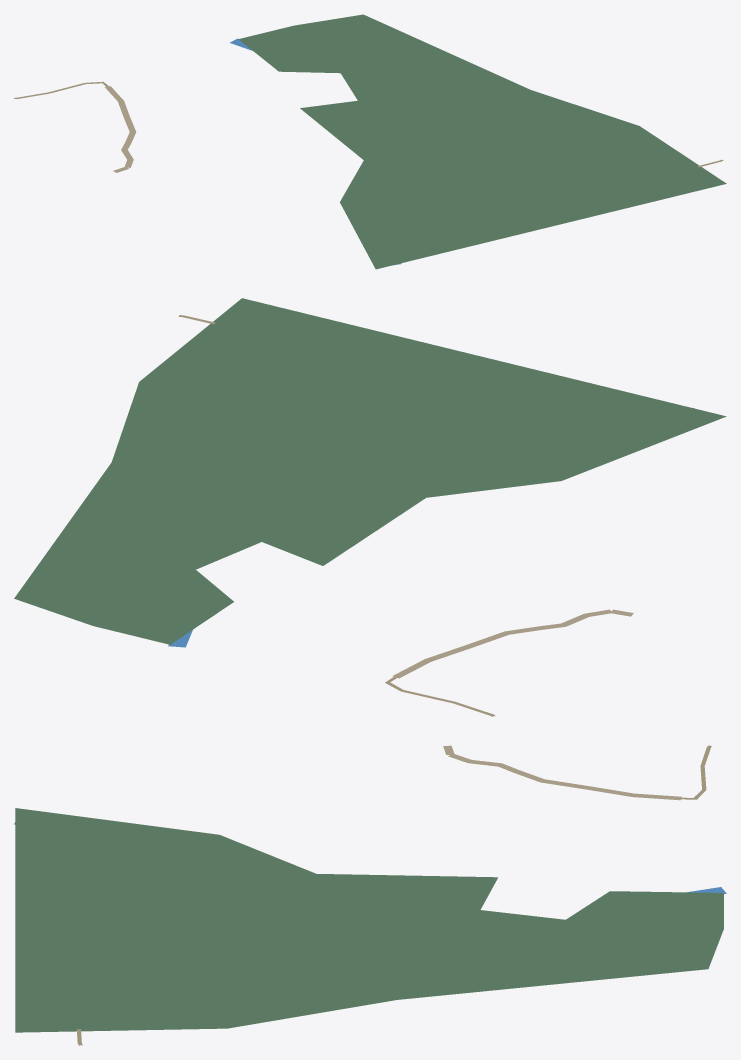
The picture shows the model from 3 angles, top to bottom: view 1: azimuth 30°, elevation 25°; view 2: azimuth 150°, elevation 25°; view 3: azimuth 270°, elevation 25°; orthographic projection. The views are drawn at different scales.
Parts seen in each view (by area): view 1: ground; view 2: ground; view 3: ground.
Part boxes in pixels (x1,y1,x2,y2): ground: [14, 14, 726, 269]; ground: [14, 298, 726, 716]; ground: [15, 745, 723, 1045].
Bounding box in the file's own units: 501 × 0.7 × 503.
